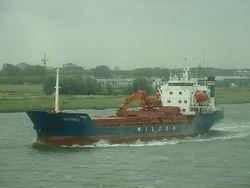Cargoship: (22, 62, 224, 149)
